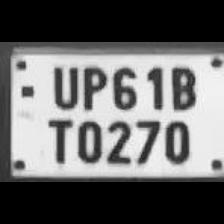0: (160, 116, 192, 166), (73, 116, 103, 164)
1: (142, 62, 166, 112)
2: (103, 116, 131, 164)
6: (106, 62, 140, 110)
7: (131, 114, 159, 166)
B: (166, 62, 198, 112)
P: (77, 62, 107, 112)
T: (40, 114, 74, 166)
U: (46, 60, 78, 108)
